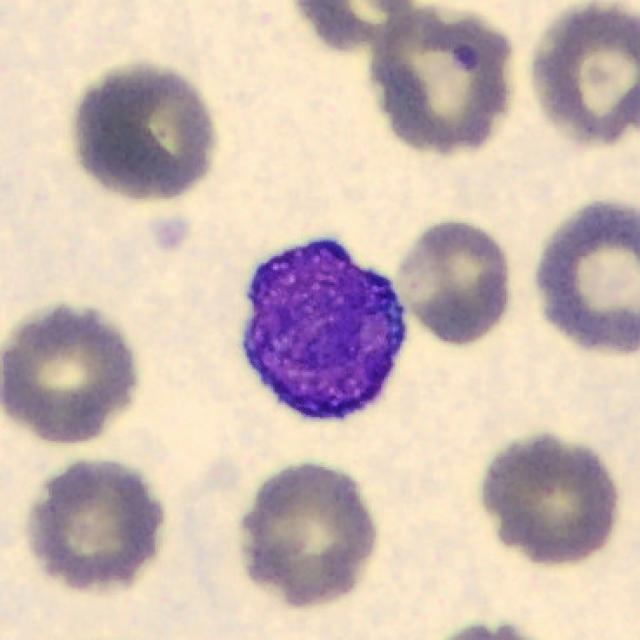Linfocito: (242, 239, 407, 420)
